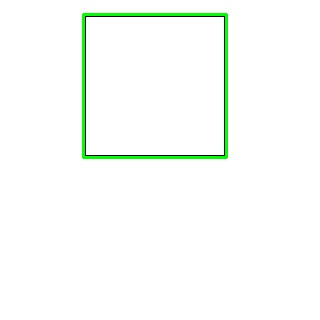line_segment: (82, 13, 228, 159)
